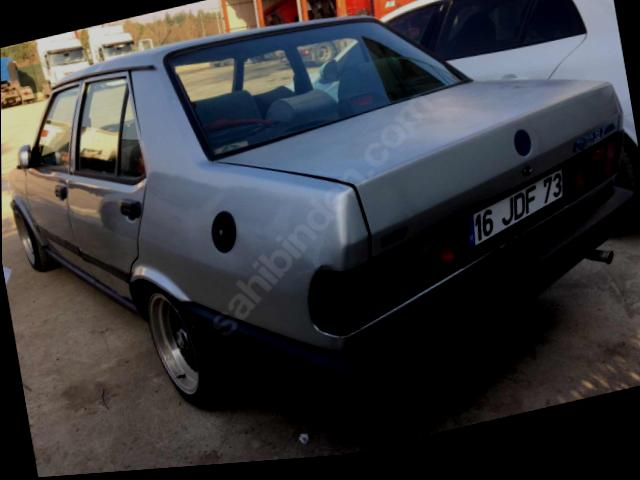plaka: (467, 169, 563, 249)
